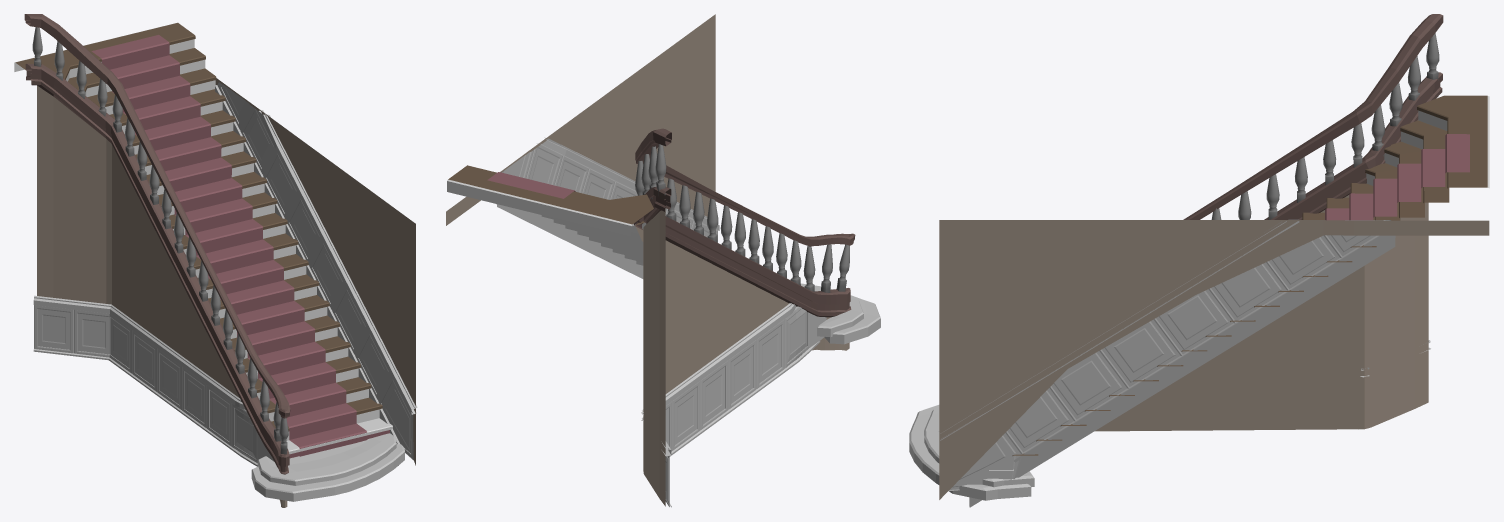
File: StairsDouble4.fbx
The picture shows the model from 3 angles, left to right: view 1: azimuth 30°, elevation 25°; view 2: azimuth 150°, elevation 25°; view 3: azimuth 270°, elevation 25°; orthographic projection. The views are drawn at different scales.
Parts seen in each view (by area): view 1: StairsDouble.003; view 2: StairsDouble.003; view 3: StairsDouble.003.
Boxes of the visible parts, <box> form: StairsDouble.003: <box>14,14,417,507</box>; StairsDouble.003: <box>446,14,880,507</box>; StairsDouble.003: <box>909,14,1489,507</box>.
Size of the model in its own units: 3.81 by 7.12 by 9.17.
